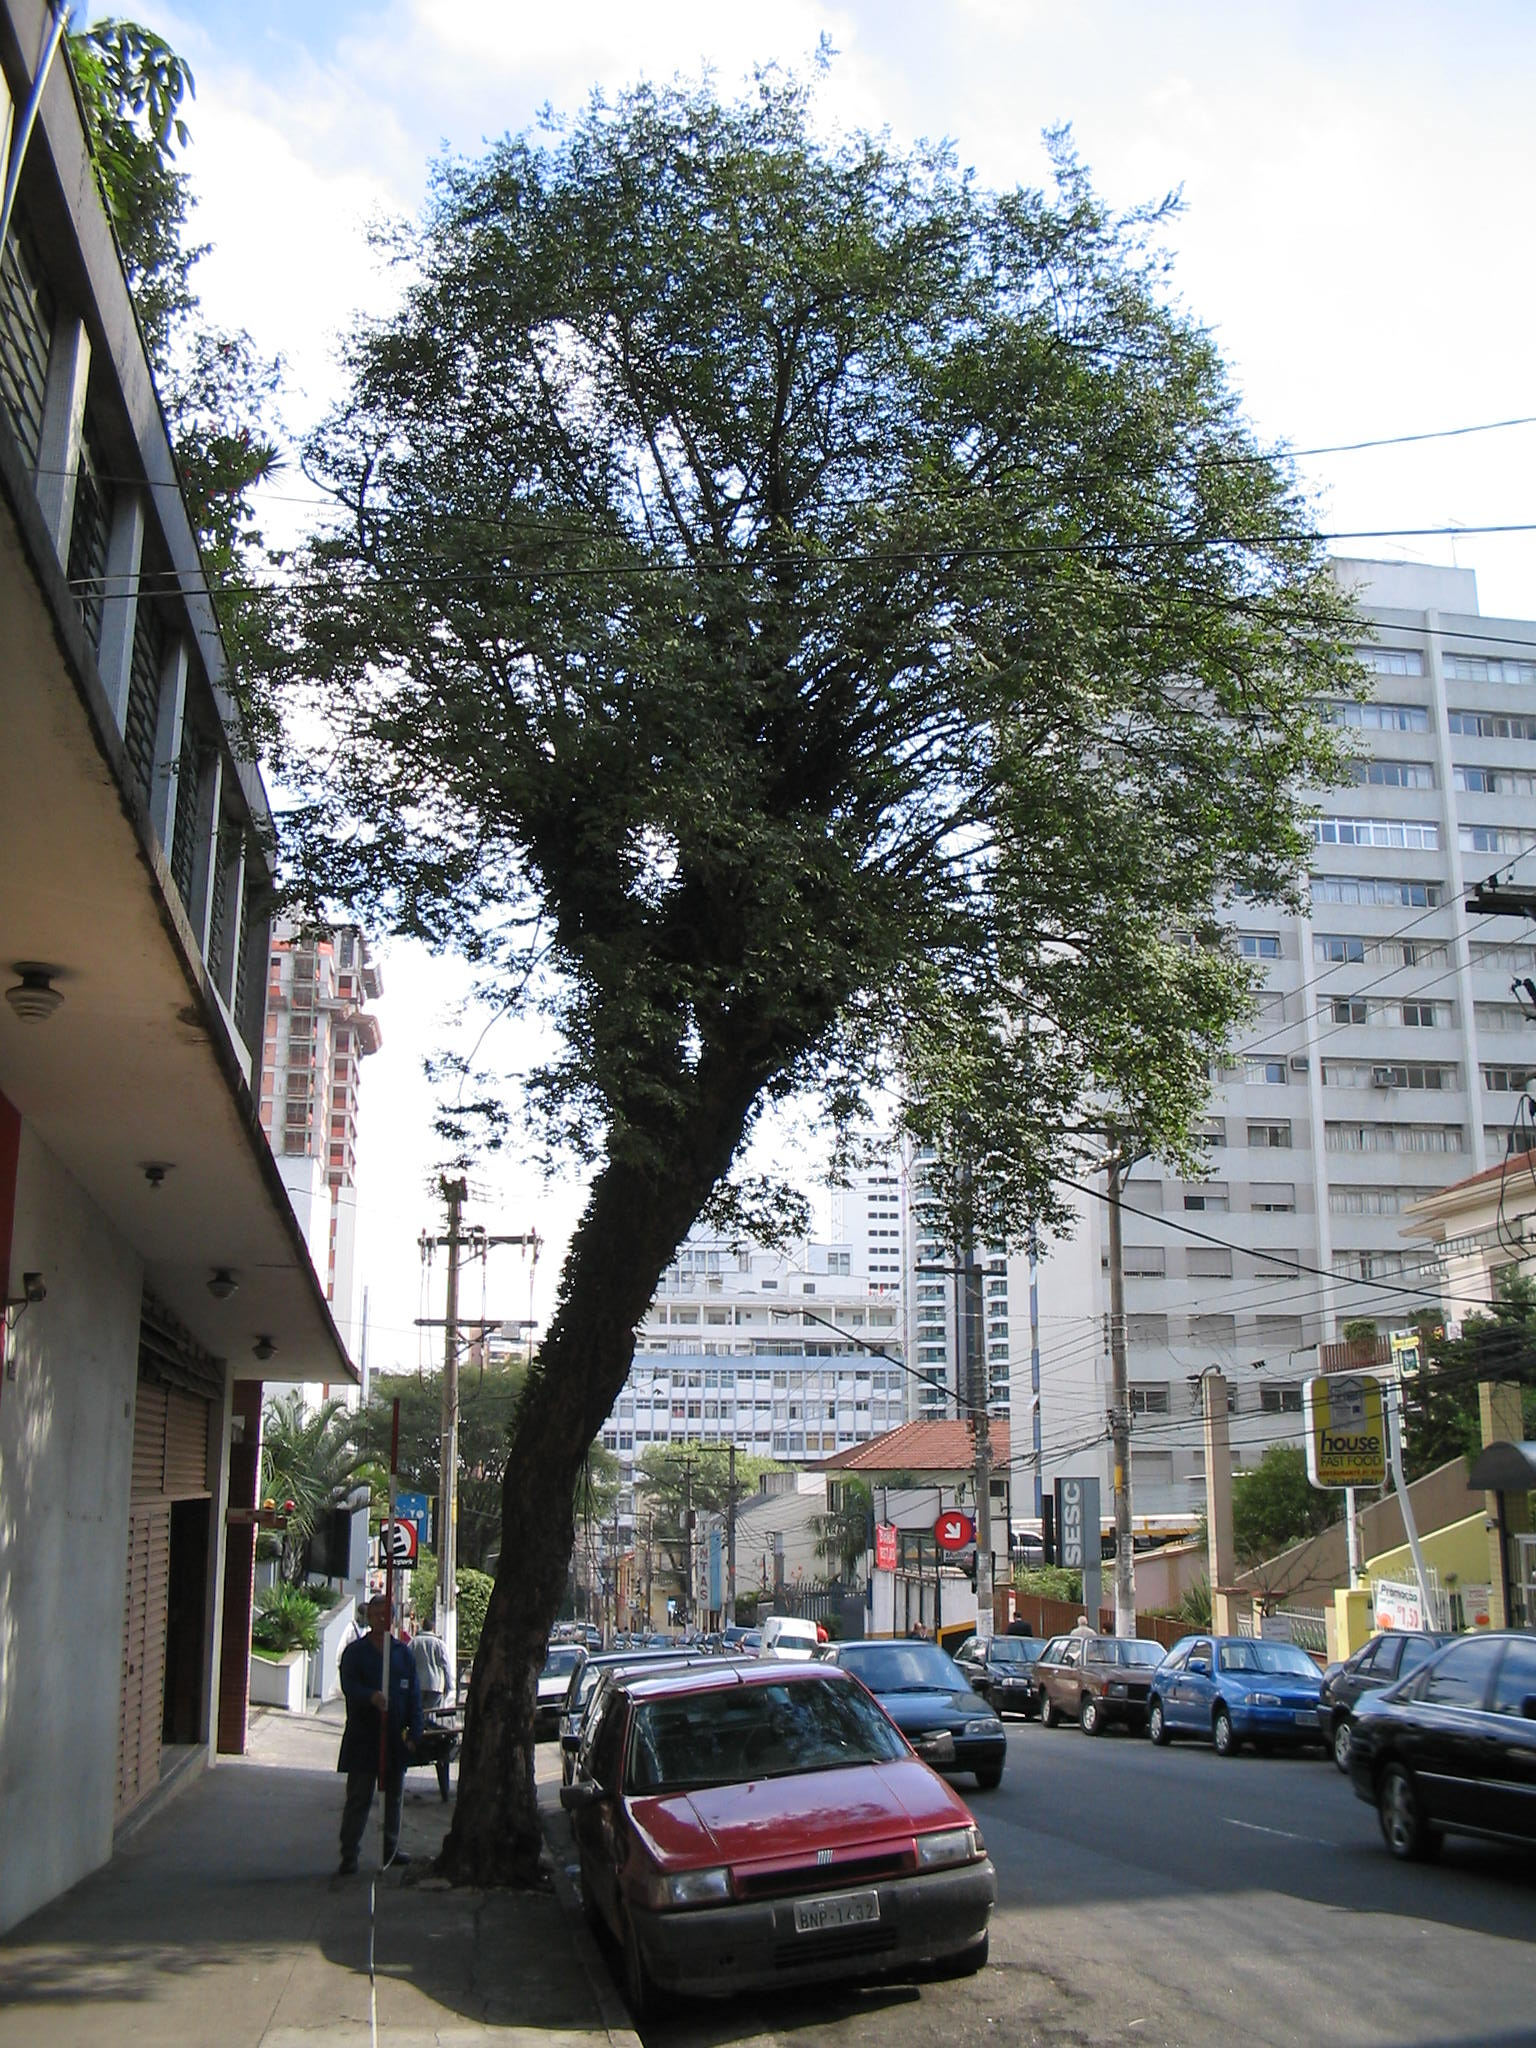crown: (189, 42, 1388, 1266)
stem: (424, 1303, 629, 1890)
stick: (360, 1392, 419, 1882)
tree: (182, 34, 1388, 1892)
